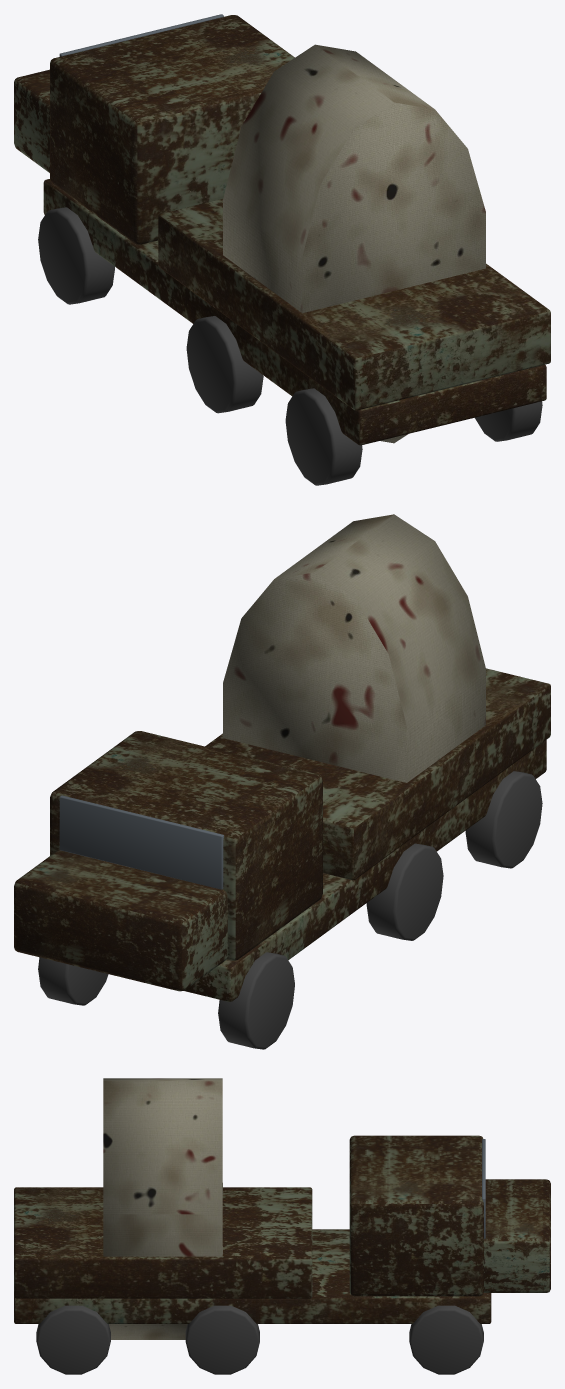
The model's file is prop_truck.glb.
3 renders of one model, top to bottom at view 1: azimuth 30°, elevation 25°; view 2: azimuth 150°, elevation 25°; view 3: azimuth 270°, elevation 25°, orthographic. The views are drawn at different scales.
Visible parts, largest first — view 1: Canvas, Cab, Bed, Chassis, Tire.004, Tire, Tire.002, Hood, Tire.005, Windshield; view 2: Canvas, Cab, Hood, Bed, Chassis, Windshield, Tire, Tire.004, Tire.002, Tire.001; view 3: Bed, Canvas, Cab, Chassis, Hood, Tire.003, Tire.005, Tire.001.
Part boxes in pixels (x1=…): Canvas: x1=223, y1=44, x2=485, y2=443; Cab: x1=50, y1=15, x2=294, y2=244; Bed: x1=158, y1=198, x2=550, y2=410; Chassis: x1=43, y1=179, x2=546, y2=445; Tire.004: x1=285, y1=388, x2=362, y2=485; Tire: x1=38, y1=207, x2=114, y2=304; Tire.002: x1=186, y1=316, x2=263, y2=413; Hood: x1=14, y1=69, x2=49, y2=172; Tire.005: x1=475, y1=401, x2=542, y2=441; Windshield: x1=59, y1=14, x2=223, y2=56; Canvas: x1=223, y1=514, x2=485, y2=782; Cab: x1=50, y1=731, x2=322, y2=960; Hood: x1=14, y1=850, x2=227, y2=991; Bed: x1=205, y1=668, x2=550, y2=880; Chassis: x1=183, y1=740, x2=546, y2=1001; Windshield: x1=59, y1=795, x2=223, y2=889; Tire: x1=218, y1=952, x2=294, y2=1049; Tire.004: x1=465, y1=771, x2=542, y2=868; Tire.002: x1=366, y1=843, x2=443, y2=940; Tire.001: x1=38, y1=957, x2=108, y2=1005; Bed: x1=14, y1=1187, x2=312, y2=1298; Canvas: x1=103, y1=1078, x2=222, y2=1339; Cab: x1=349, y1=1135, x2=483, y2=1296; Chassis: x1=14, y1=1229, x2=491, y2=1323; Hood: x1=483, y1=1179, x2=550, y2=1292; Tire.003: x1=185, y1=1305, x2=259, y2=1374; Tire.005: x1=36, y1=1305, x2=110, y2=1374; Tire.001: x1=409, y1=1305, x2=483, y2=1374.
Size of the model in its own units: 2.45 by 3.8 by 7.2.
4 materials, 2 textured.
